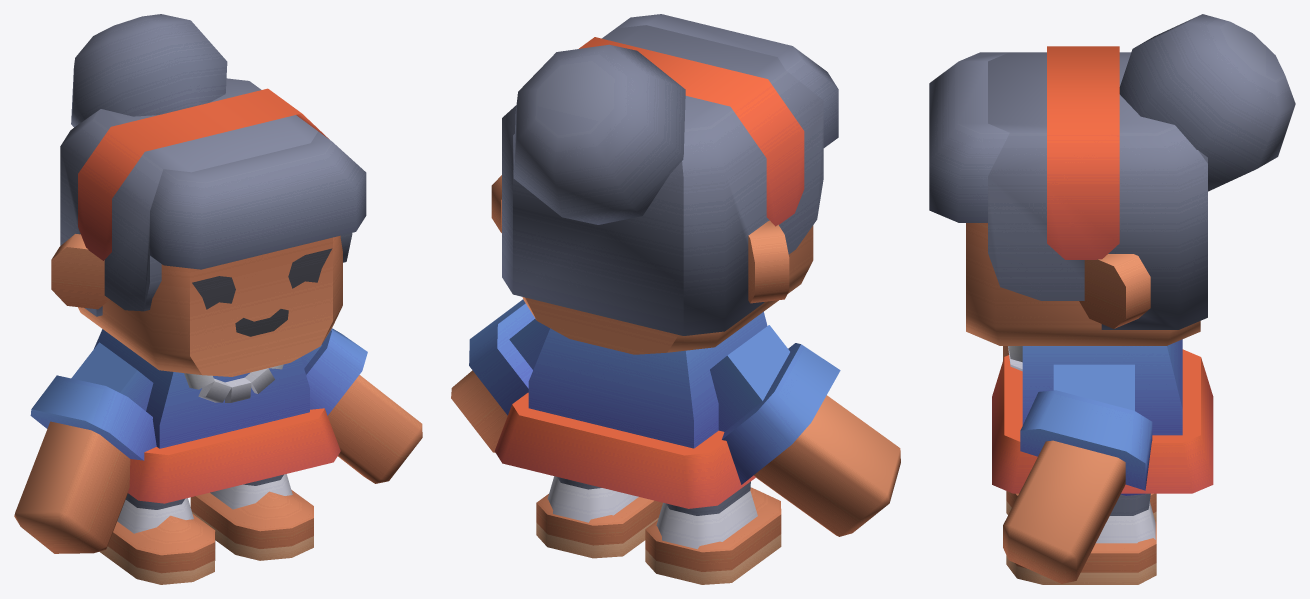
The model's file is character-female-c.glb.
3 views of the same model, side by side, from view 1: azimuth 30°, elevation 25°; view 2: azimuth 150°, elevation 25°; view 3: azimuth 270°, elevation 25° (orthographic). The views are drawn at different scales.
Parts seen in each view (by area): view 1: body-mesh; view 2: body-mesh; view 3: body-mesh.
Part boxes in pixels (box(x1,y1,x2,y2)): body-mesh: box(14, 14, 422, 584); body-mesh: box(451, 14, 900, 584); body-mesh: box(929, 14, 1295, 584).
Bounding box in the file's own units: 1.59 × 1.86 × 1.2.
Materials: 1 (1 with a texture image).
